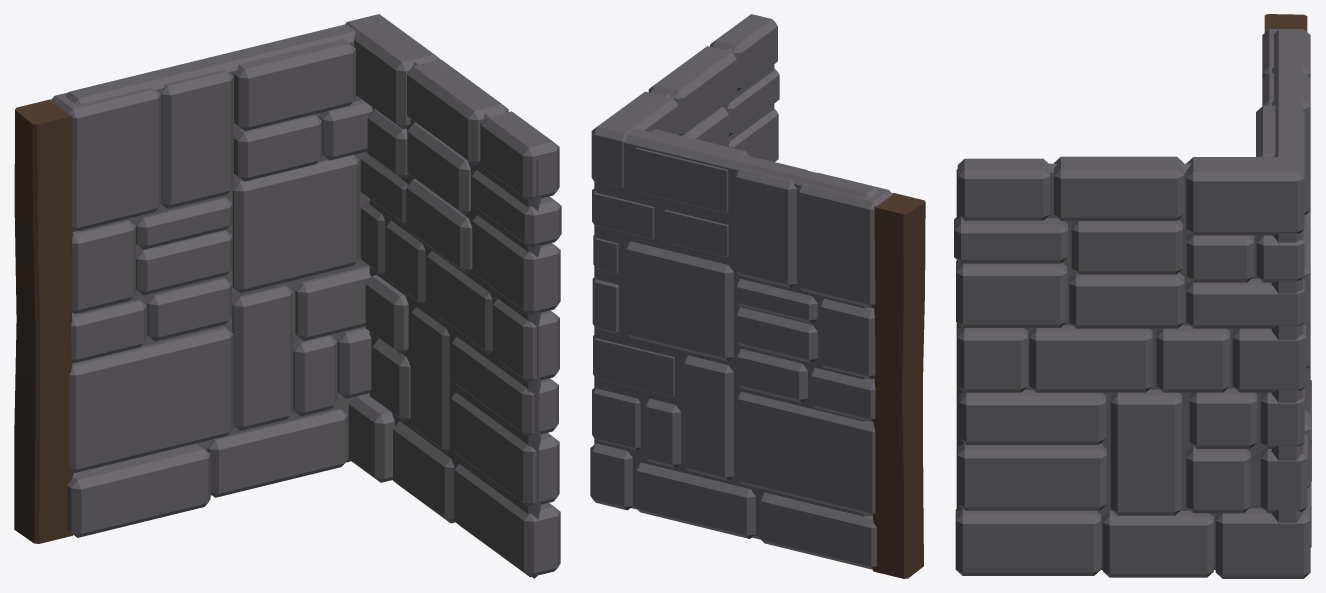
Rendered from CornerWallRock.fbx.
The picture shows the model from 3 angles, left to right: view 1: azimuth 30°, elevation 25°; view 2: azimuth 150°, elevation 25°; view 3: azimuth 270°, elevation 25°; orthographic projection. The views are drawn at different scales.
Visible parts, largest first — view 1: Cube.071; view 2: Cube.071; view 3: Cube.071.
Part boxes in pixels (left/top/right/bottom): Cube.071: left=14, top=14, right=561, bottom=578; Cube.071: left=590, top=14, right=925, bottom=578; Cube.071: left=954, top=14, right=1311, bottom=578.
Bounding box in the file's own units: 2.3 × 2.57 × 2.04.
